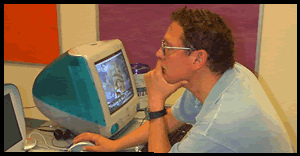person: (71, 8, 295, 155)
